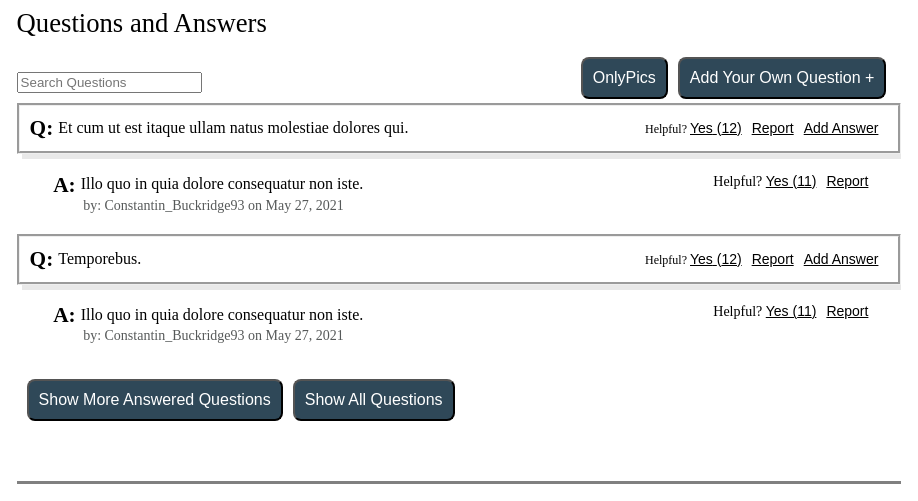
QnA Component › filterQuestion should set state of quests
This screenshot has width=918, height=501.
Type "tempore" into the field with test id "search-bar" at (109, 82), box [17,72,202,93]
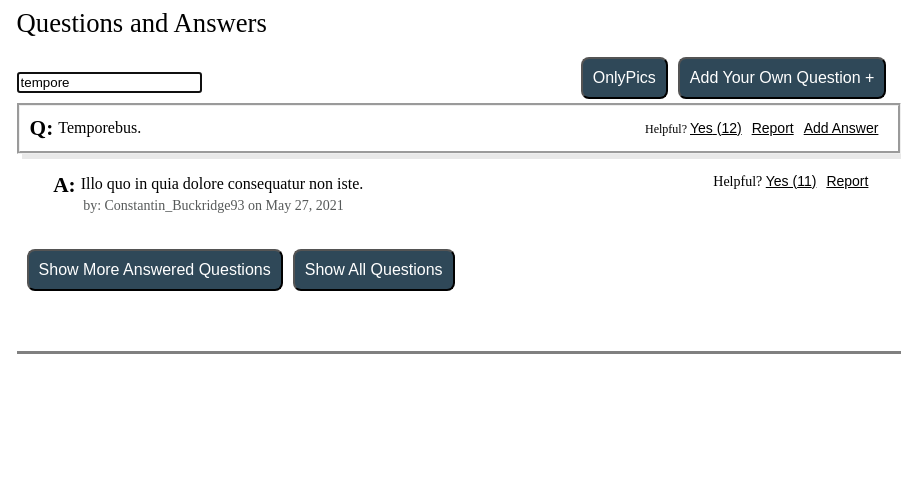
Expected: the number of elements with test id "individual-question-test" is 1, [17,103,901,224]
